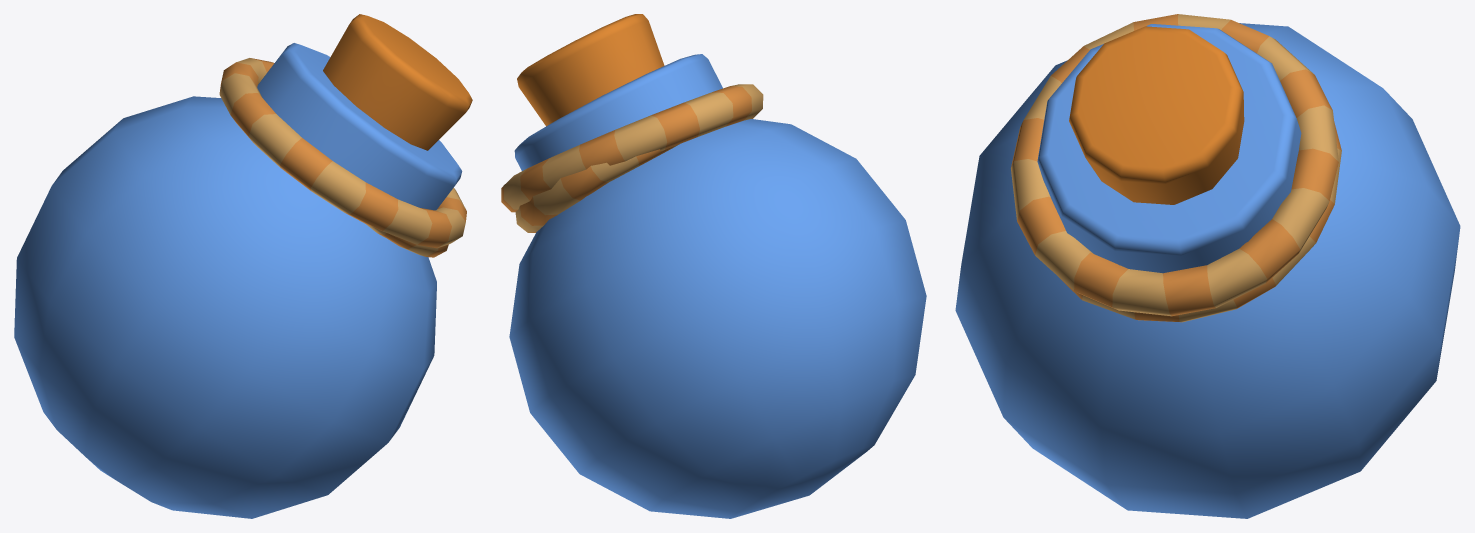
3 views of the same model, side by side, from view 1: azimuth 30°, elevation 25°; view 2: azimuth 150°, elevation 25°; view 3: azimuth 270°, elevation 25° (orthographic). The views are drawn at different scales.
Parts seen in each view (by area): view 1: model_1.114; view 2: model_1.114; view 3: model_1.114.
Boxes of the visible parts, <box> form: model_1.114: <box>14,14,472,518</box>; model_1.114: <box>501,14,926,518</box>; model_1.114: <box>955,14,1460,518</box>.
Bounding box in the file's own units: 3.32 × 3.59 × 3.09.
